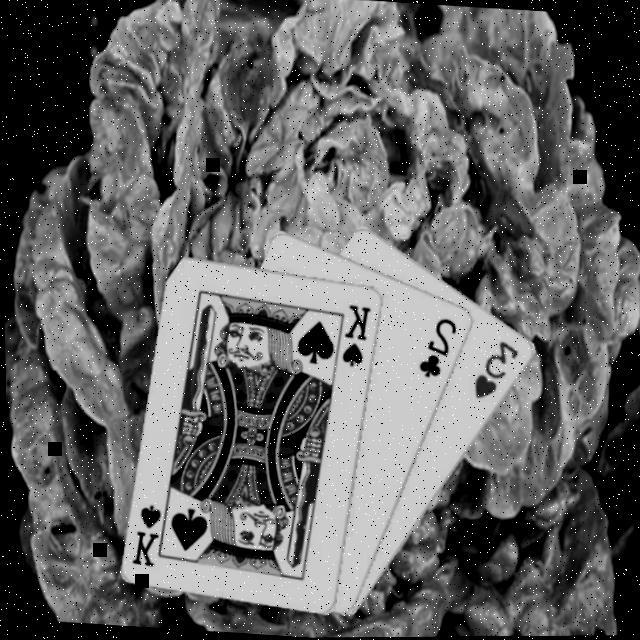2C: (415, 312, 463, 382)
3H: (470, 334, 525, 403)
KS: (128, 494, 174, 569), (338, 300, 376, 370)
